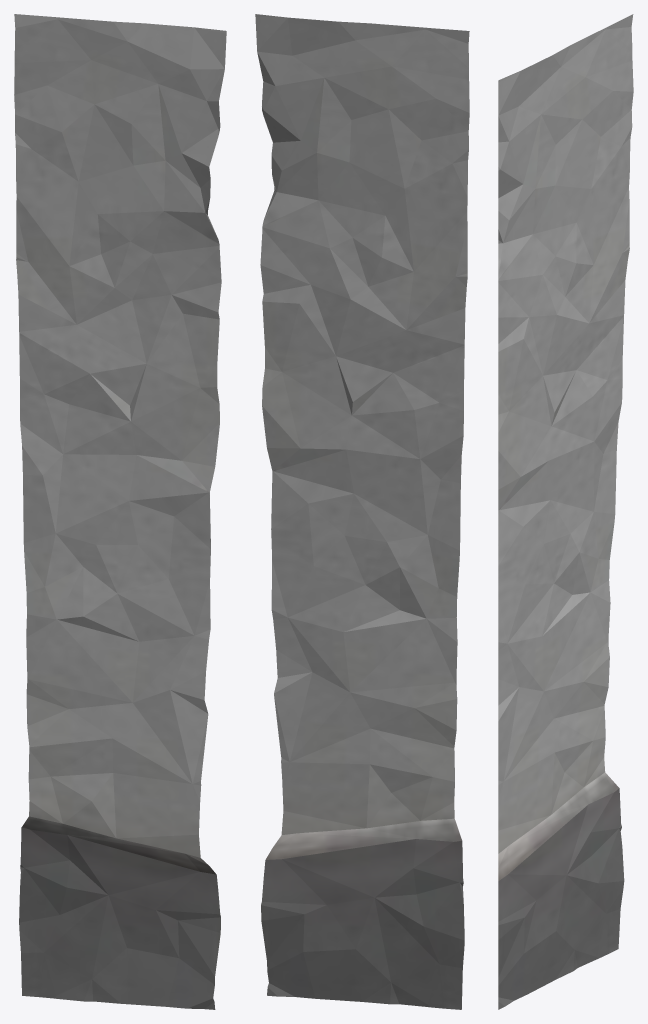
3 renders of one model, left to right at view 1: azimuth 30°, elevation 25°; view 2: azimuth 210°, elevation 25°; view 3: azimuth 270°, elevation 25°, orthographic. The views are drawn at different scales.
Size of the model in its own units: 0.1275 by 0.8374 by 0.1098.
Materials: 1 (1 with a texture image).
